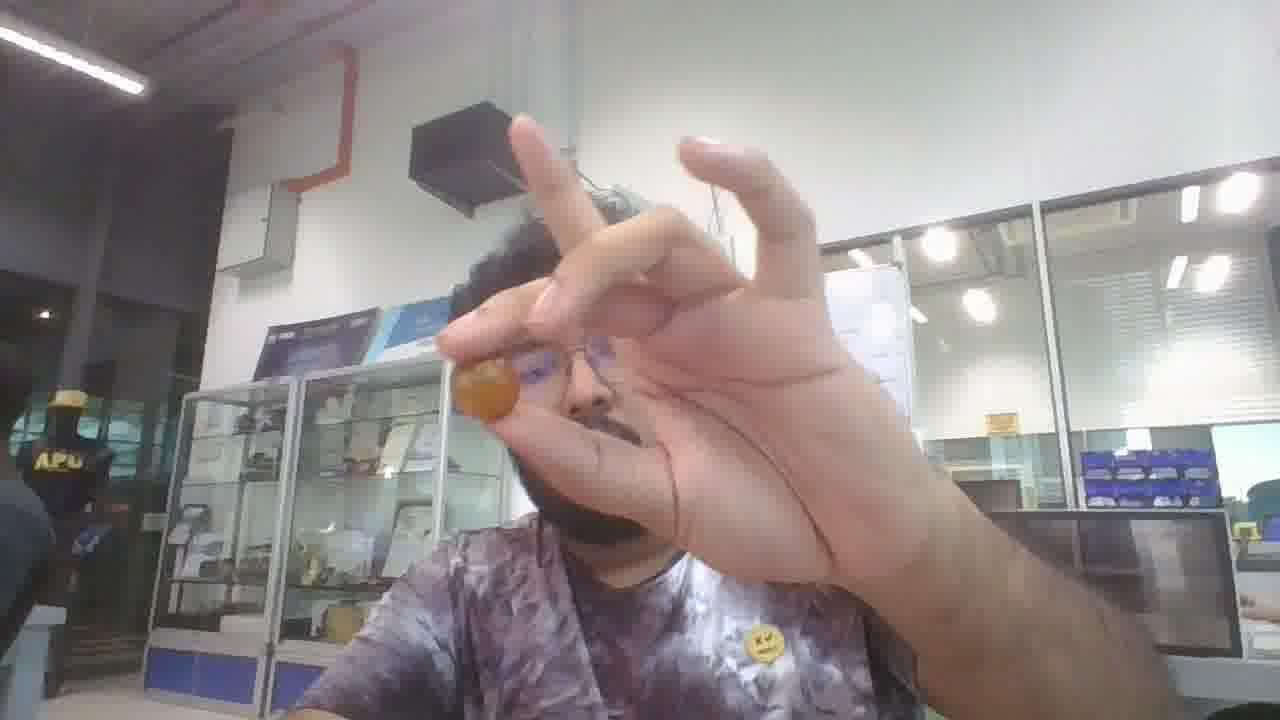yellow_cherry_tomato: (451, 357, 519, 421)
